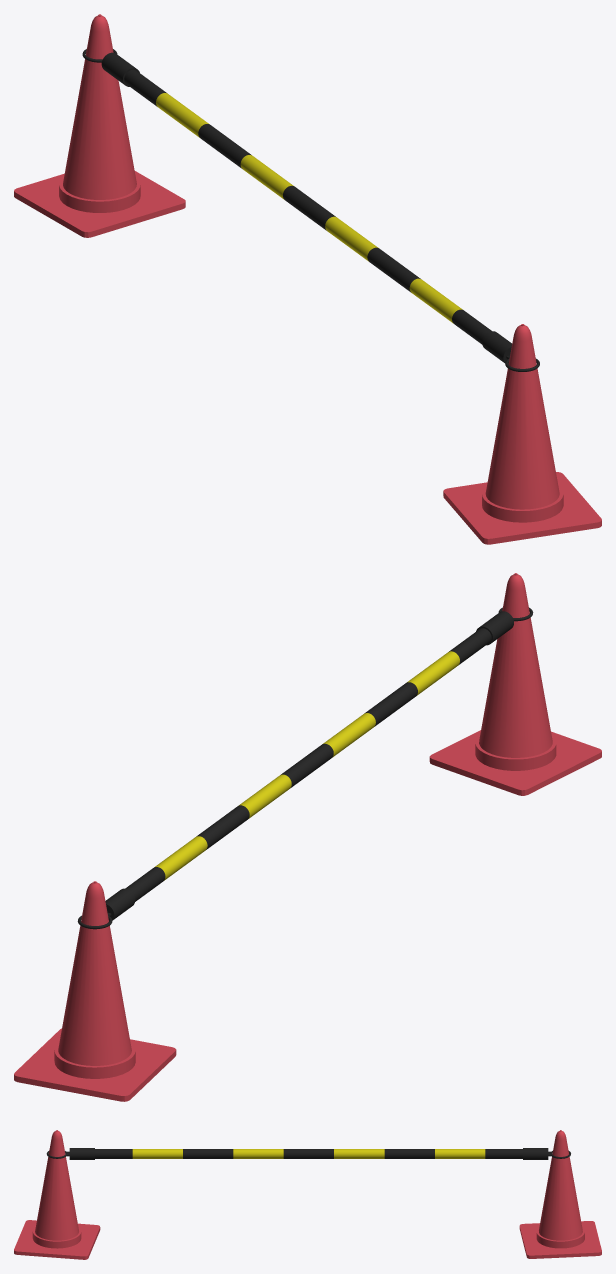
File: cone-set.fbx
3 renders of one model, top to bottom at view 1: azimuth 30°, elevation 25°; view 2: azimuth 150°, elevation 25°; view 3: azimuth 270°, elevation 25°, orthographic. The views are drawn at different scales.
Parts seen in each view (by area): view 1: safety-core, cone-bar; view 2: safety-core, cone-bar; view 3: safety-core, cone-bar.
Part boxes in pixels (x1=…): safety-core: x1=14, y1=14, x2=601, y2=544; cone-bar: x1=82, y1=49, x2=539, y2=371; safety-core: x1=14, y1=573, x2=601, y2=1101; cone-bar: x1=77, y1=607, x2=533, y2=929; safety-core: x1=14, y1=1130, x2=601, y2=1259; cone-bar: x1=46, y1=1148, x2=570, y2=1159.
Size of the model in its own units: 34.22 by 48.71 by 233.
